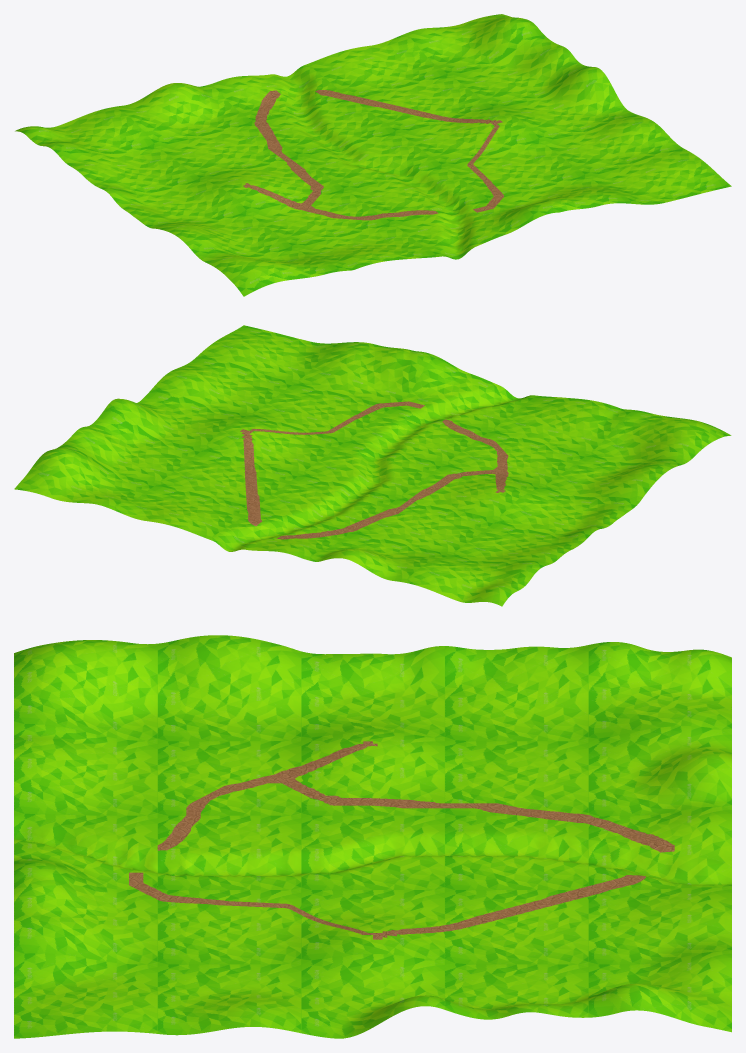
Rendered from roaded_map.fbx.
The picture shows the model from 3 angles, top to bottom: view 1: azimuth 30°, elevation 25°; view 2: azimuth 150°, elevation 25°; view 3: azimuth 270°, elevation 25°; orthographic projection. The views are drawn at different scales.
Visible parts, largest first — view 1: Terrain; view 2: Terrain; view 3: Terrain.
Part boxes in pixels (box(x1,y1,x2,y2)): Terrain: box(15, 14, 731, 296); Terrain: box(14, 325, 731, 606); Terrain: box(14, 635, 731, 1038).
Bounding box in the file's own units: 5992 × 352 × 4886.
2 materials, 2 textured.
